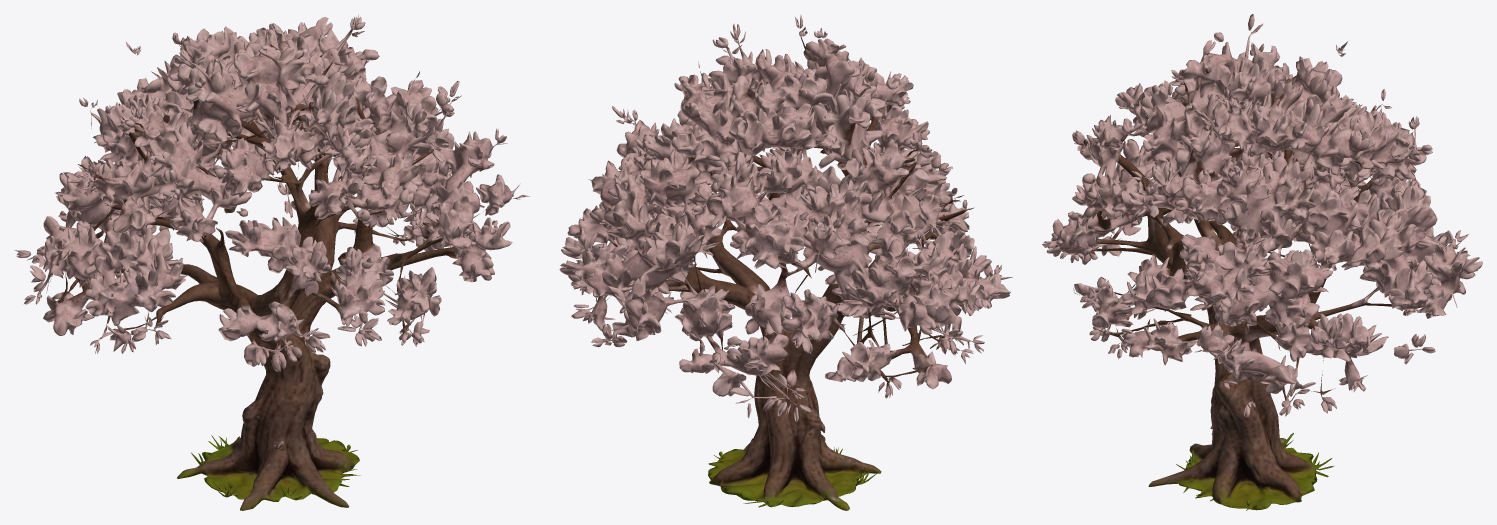
Rendered from sakura.glb.
The picture shows the model from 3 angles, left to right: view 1: azimuth 30°, elevation 25°; view 2: azimuth 150°, elevation 25°; view 3: azimuth 270°, elevation 25°; orthographic projection. The views are drawn at different scales.
Visible parts, largest first — view 1: tripo_node_44f0c0a9-b564-4e52-8081-369696bd6524; view 2: tripo_node_44f0c0a9-b564-4e52-8081-369696bd6524; view 3: tripo_node_44f0c0a9-b564-4e52-8081-369696bd6524.
Boxes of the visible parts, x1,y1,x2,y2 form: tripo_node_44f0c0a9-b564-4e52-8081-369696bd6524: [14, 14, 529, 510]; tripo_node_44f0c0a9-b564-4e52-8081-369696bd6524: [559, 14, 1012, 510]; tripo_node_44f0c0a9-b564-4e52-8081-369696bd6524: [1042, 14, 1482, 510].
Size of the model in its own units: 0.9825 by 0.9018 by 0.8486.
Materials: 1 (1 with a texture image).
